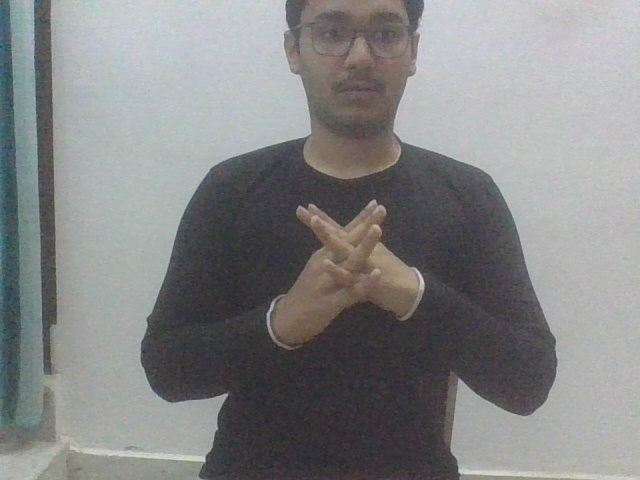W: (276, 198, 421, 339)
